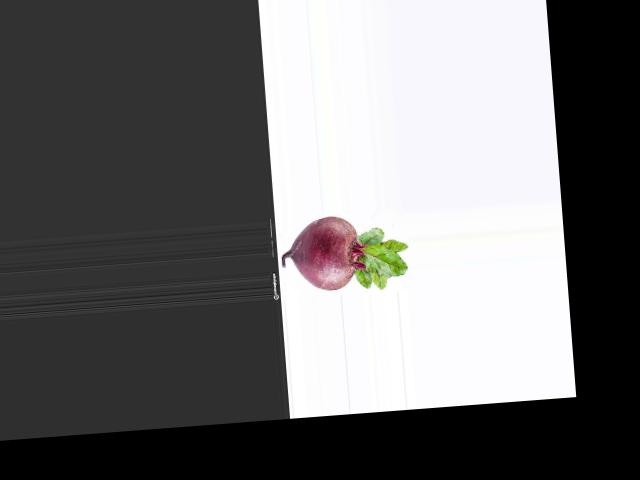beet: (279, 210, 410, 296)
